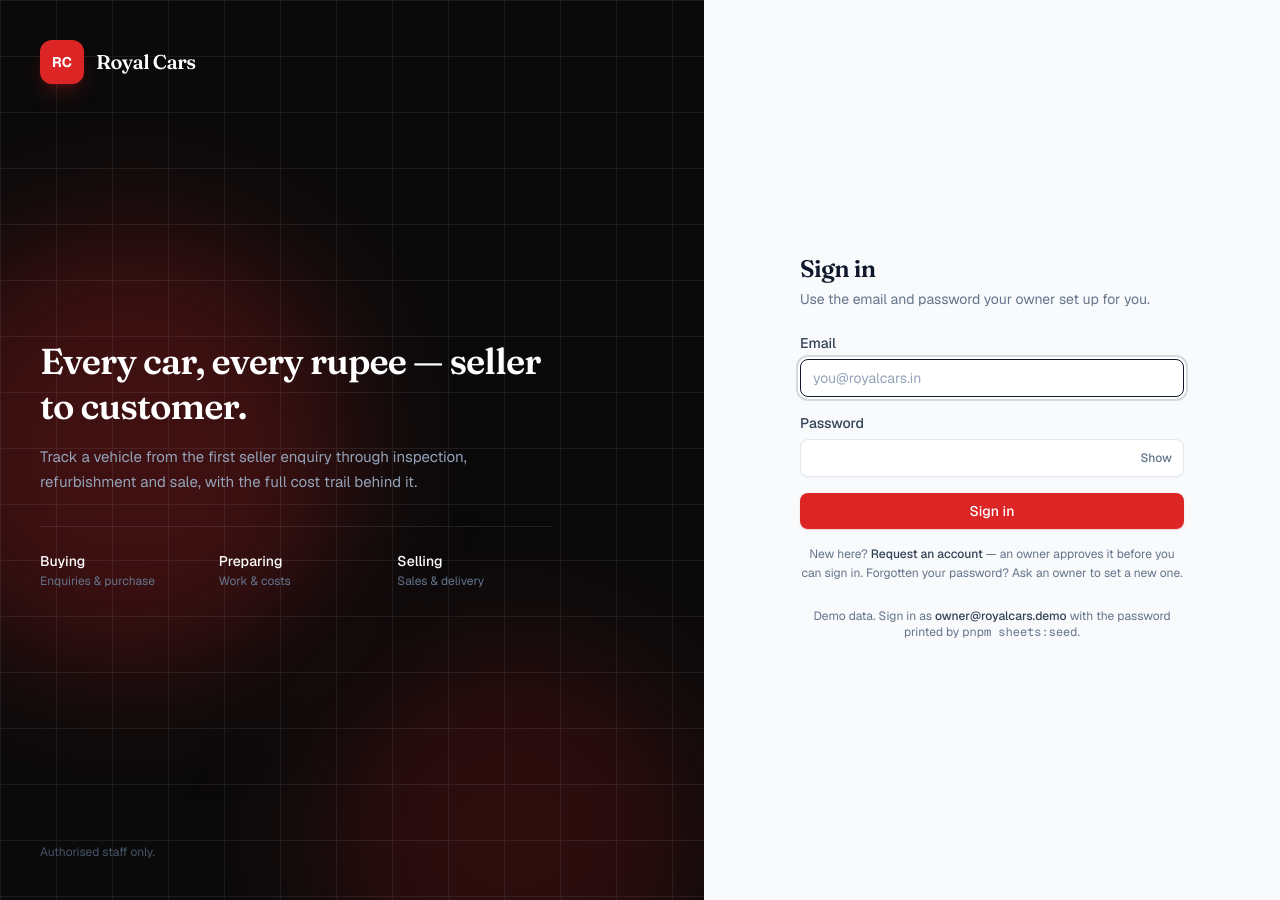
Scenario: Inspections and refurbishment › lists inspections
Type "owner@royalcars.demo" into the field labelled "Email" at (992, 378), box [800,359,1184,397]
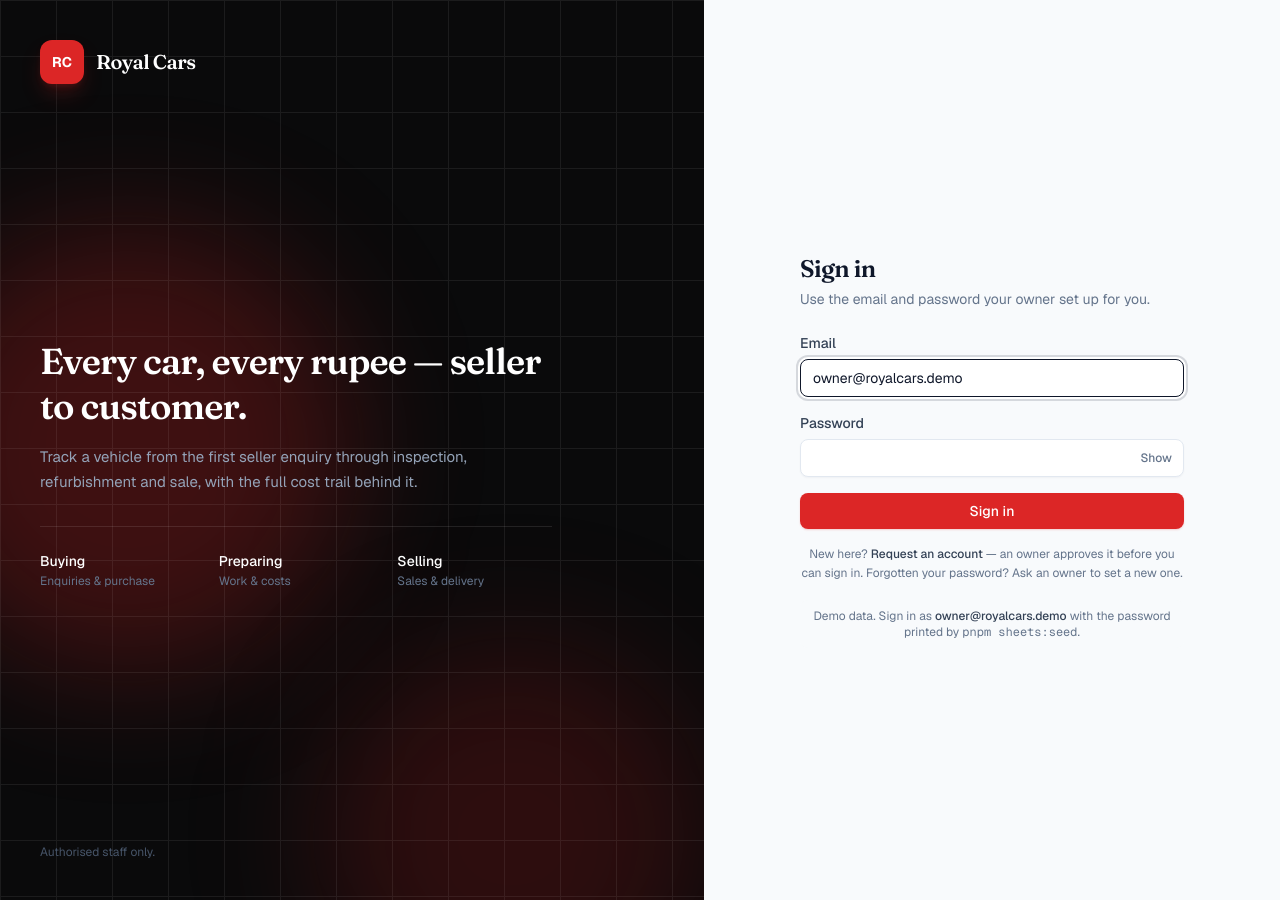
Type "Showroom-Demo-2026" into the password field at (992, 458), box [800,439,1184,477]
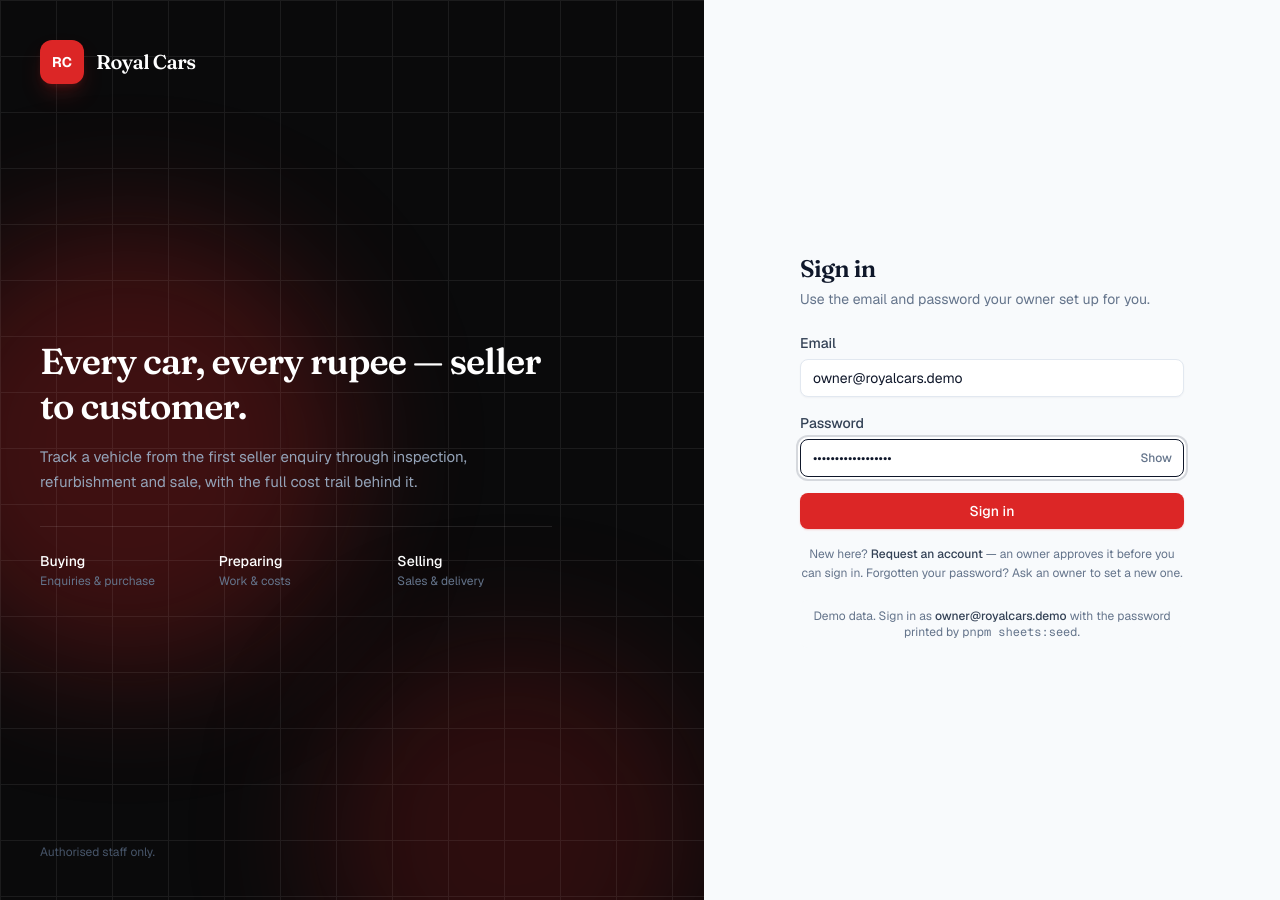
Click the submit button at (992, 511), box [800,493,1184,529]
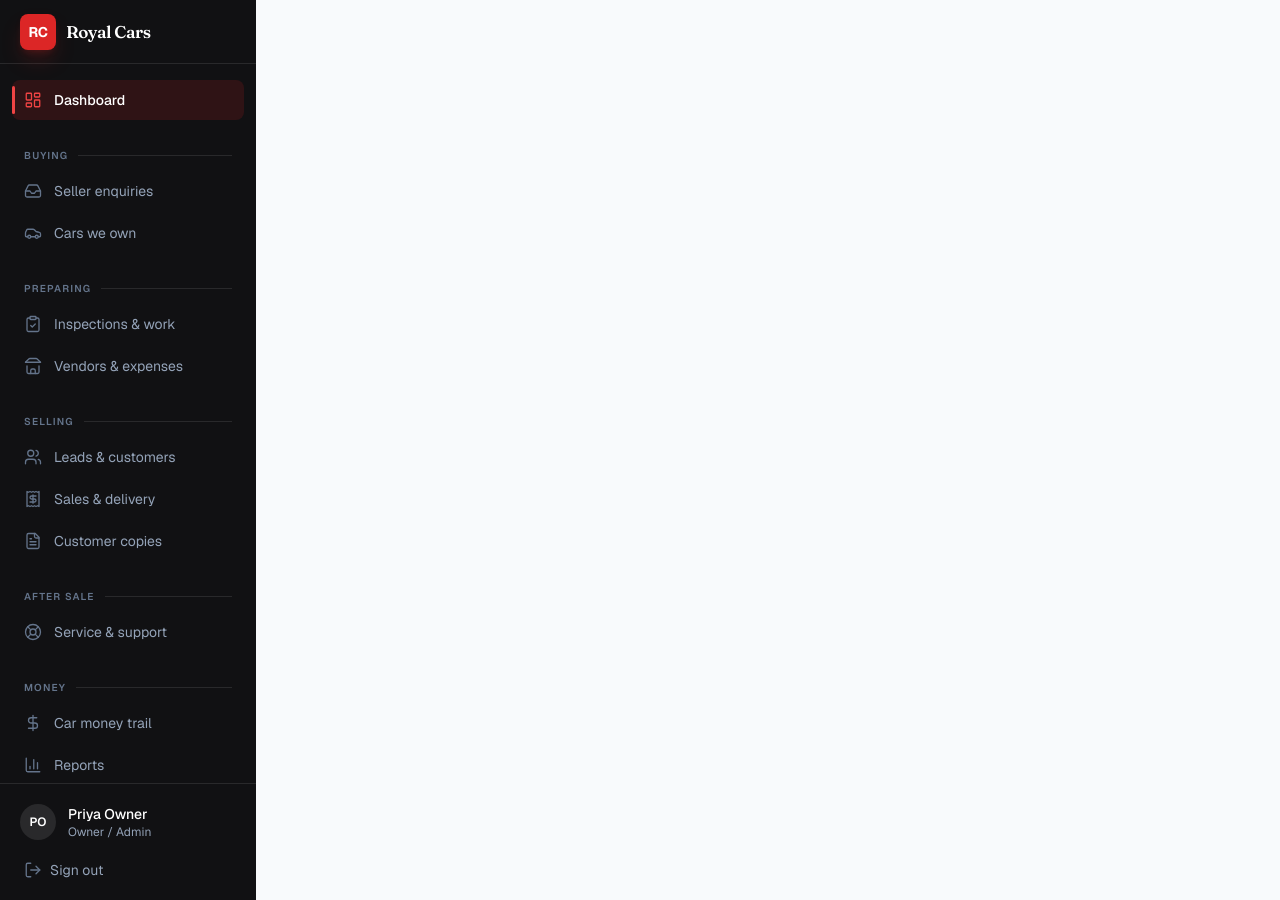
Open "/inspections"
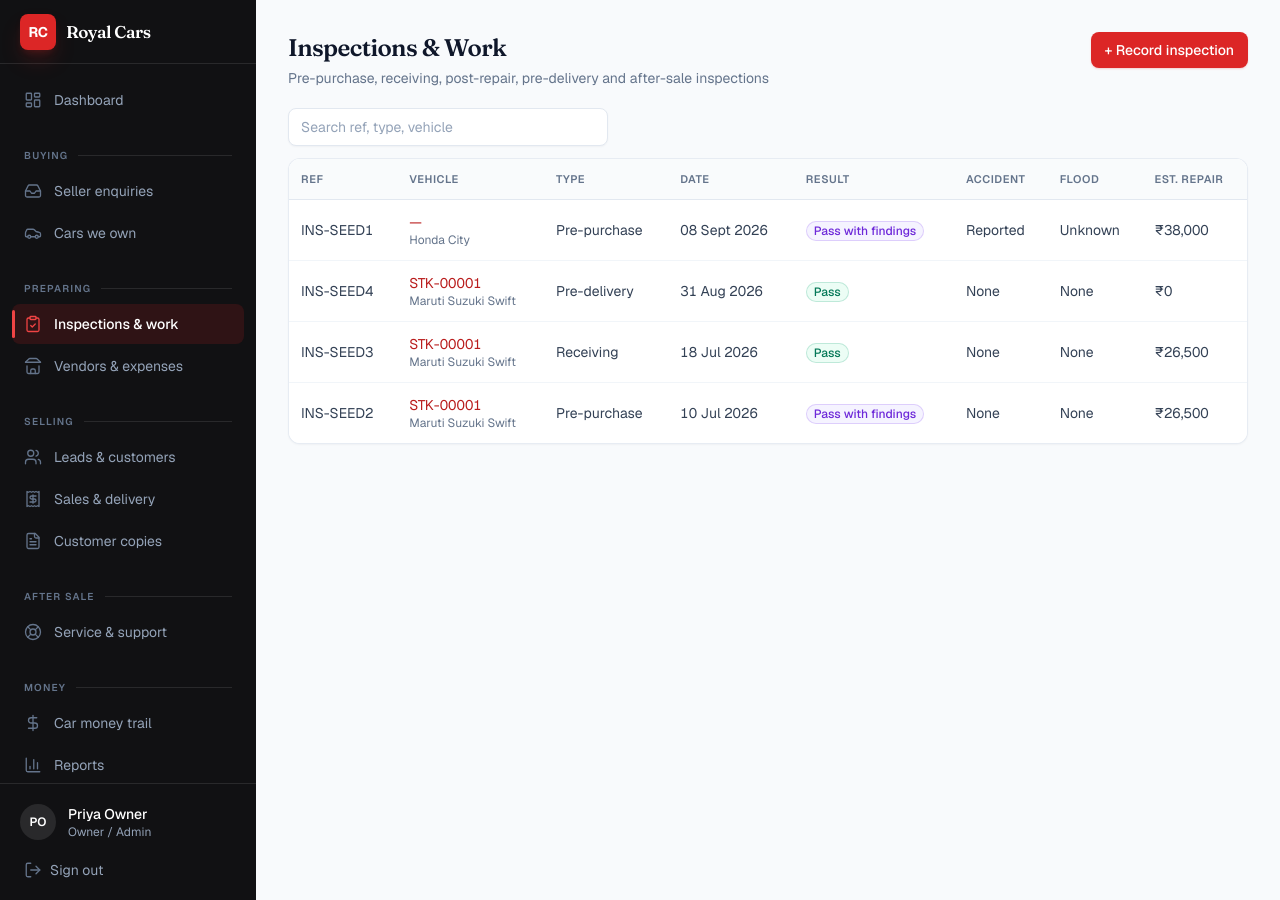
Now the heading "Inspections & Work" is shown, box [288,33,506,62]
